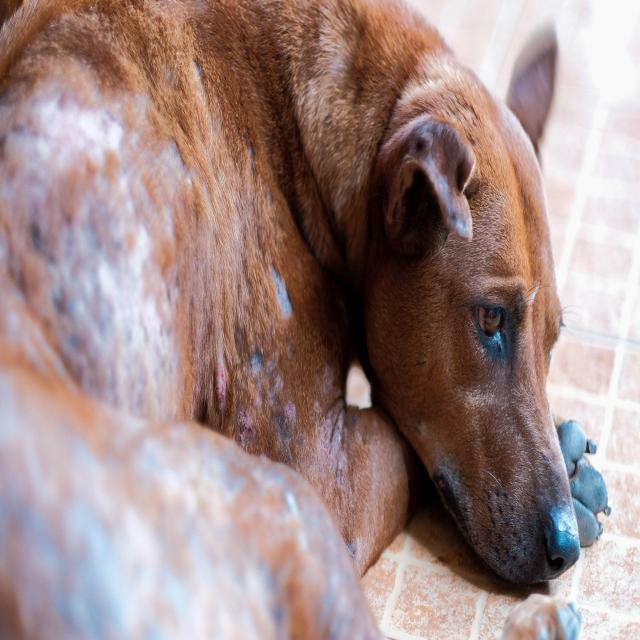mange: (0, 99, 279, 638)
